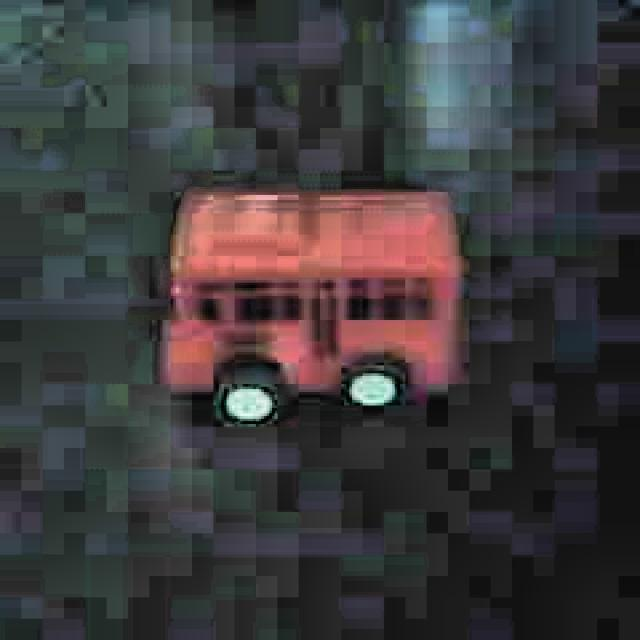bus: (161, 179, 469, 433)
